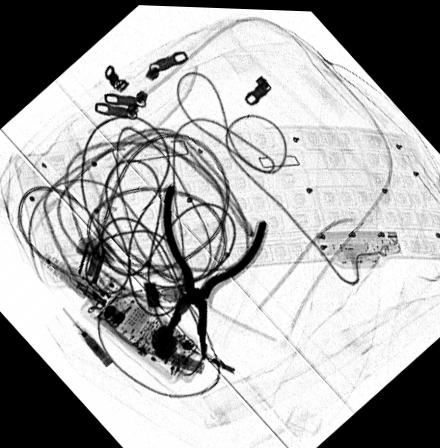Pliers: (158, 183, 271, 361)
